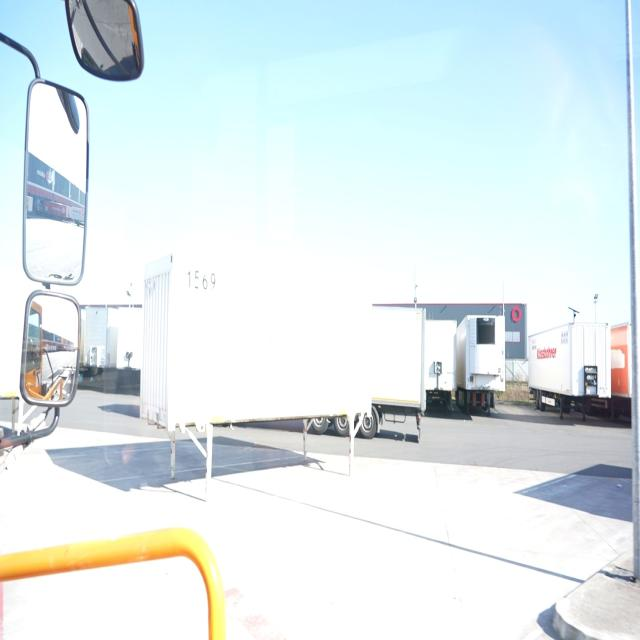Code: (185, 264, 218, 294)
